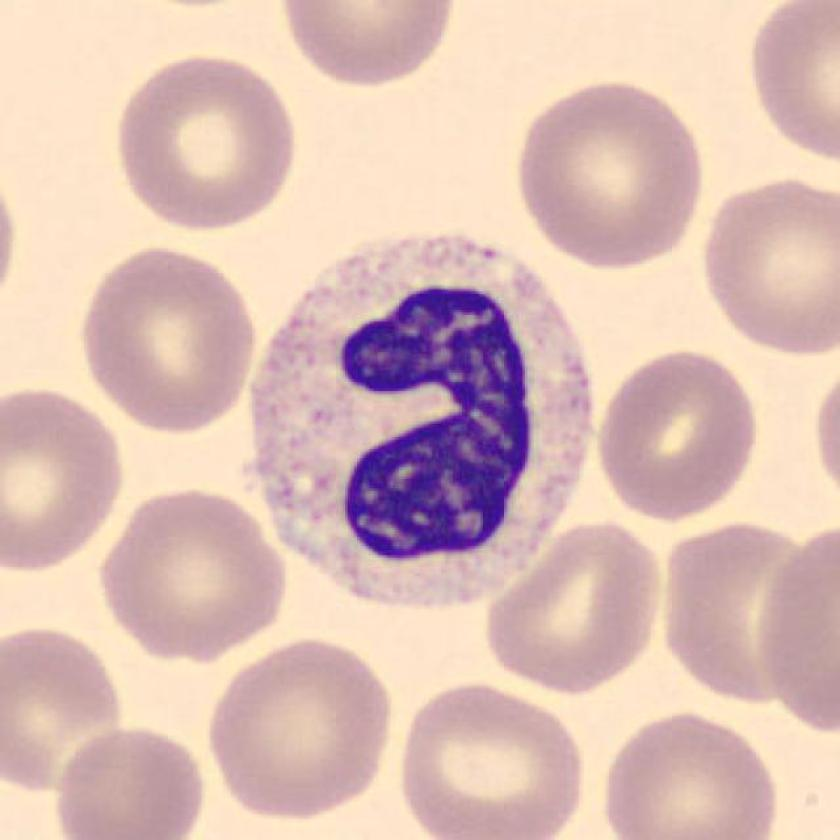neutrophil: (252, 235, 596, 614)
